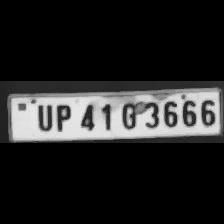1: (96, 99, 116, 130)
3: (140, 97, 160, 128)
4: (74, 99, 98, 130)
6: (197, 96, 217, 126), (160, 97, 178, 128), (179, 97, 197, 127)
G: (116, 99, 140, 130)
P: (51, 102, 73, 132)
U: (31, 101, 54, 131)
